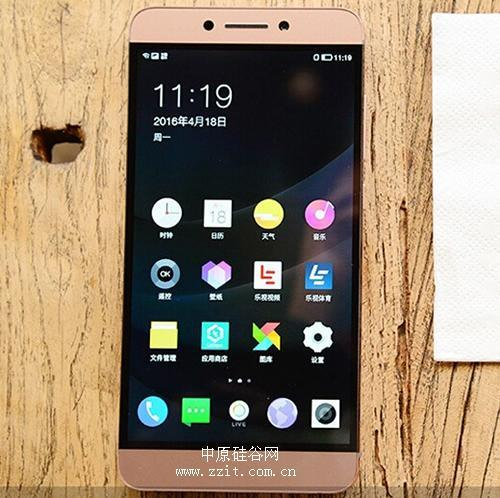phone: (117, 7, 360, 495)
